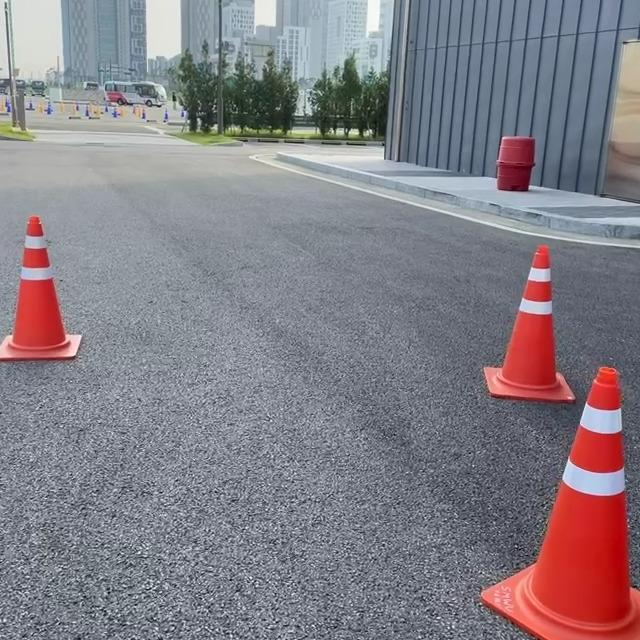fallen_object: (447, 163, 609, 416), (517, 333, 640, 640), (0, 186, 137, 375)
